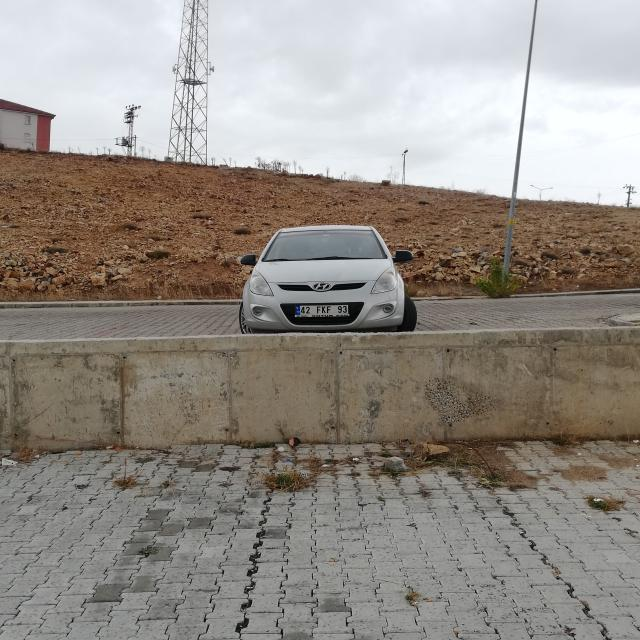license_plate: (296, 306, 348, 315)
